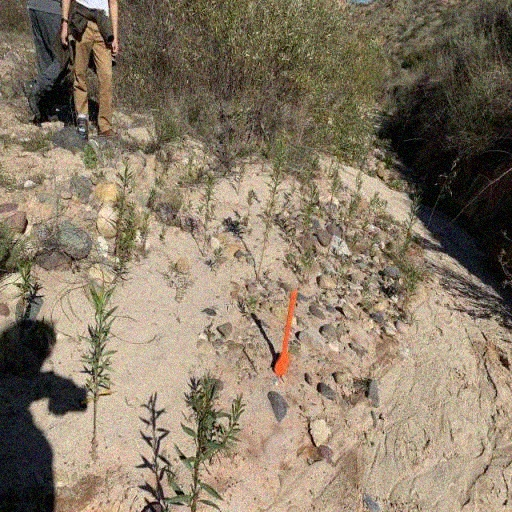bottle: (77, 112, 89, 142)
mallet: (274, 290, 298, 376)
